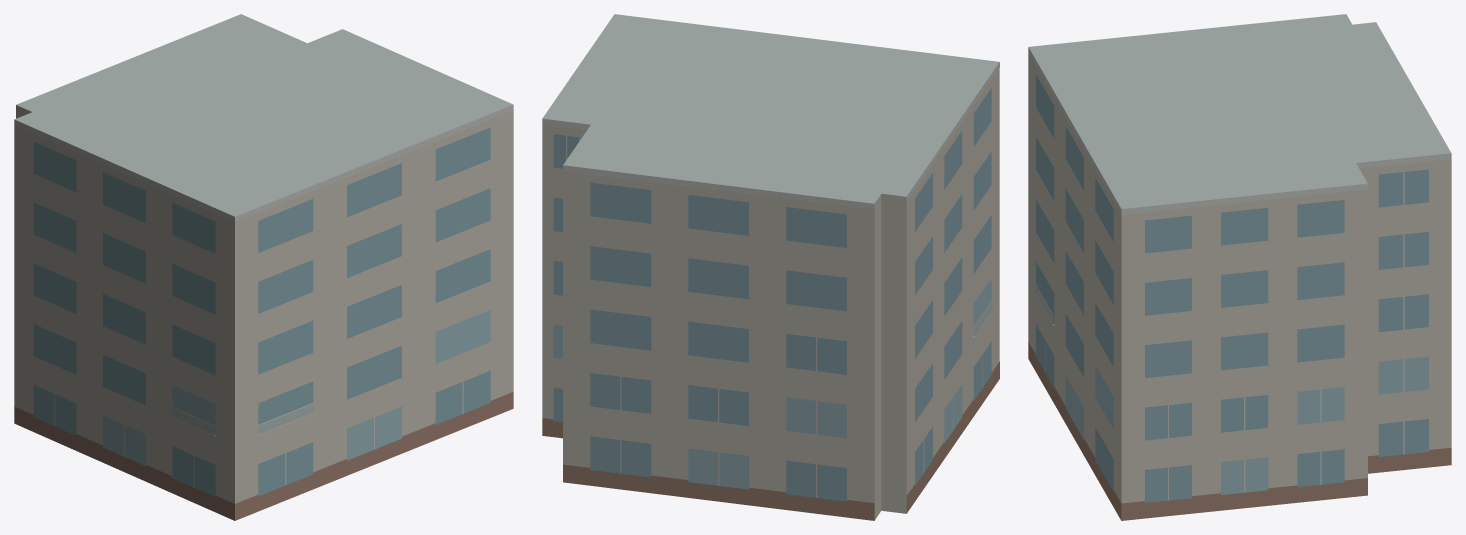
File: survey-upis-32812530.glb
3 renders of one model, left to right at view 1: azimuth 30°, elevation 25°; view 2: azimuth 150°, elevation 25°; view 3: azimuth 270°, elevation 25°, orthographic. The views are drawn at different scales.
Visible parts, largest first — view 1: survey-upis-32812530.tmp; view 2: survey-upis-32812530.tmp; view 3: survey-upis-32812530.tmp.
Part boxes in pixels (x1=…): survey-upis-32812530.tmp: x1=14, y1=14, x2=513, y2=520; survey-upis-32812530.tmp: x1=542, y1=14, x2=999, y2=520; survey-upis-32812530.tmp: x1=1028, y1=14, x2=1451, y2=520.
Size of the model in its own units: 17.81 by 13.27 by 16.33.
